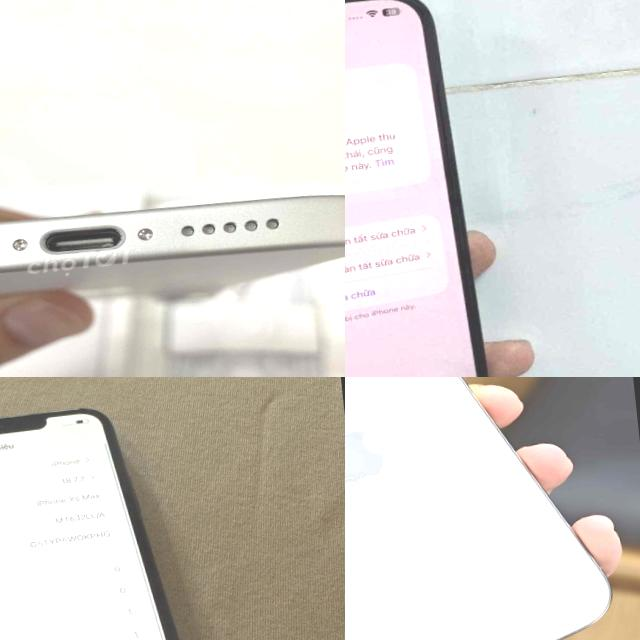gen_12_13: (345, 0, 502, 377)
gen_16: (345, 377, 610, 640)
gen_17: (0, 169, 345, 342)
gen_x_xs: (0, 389, 233, 640)
